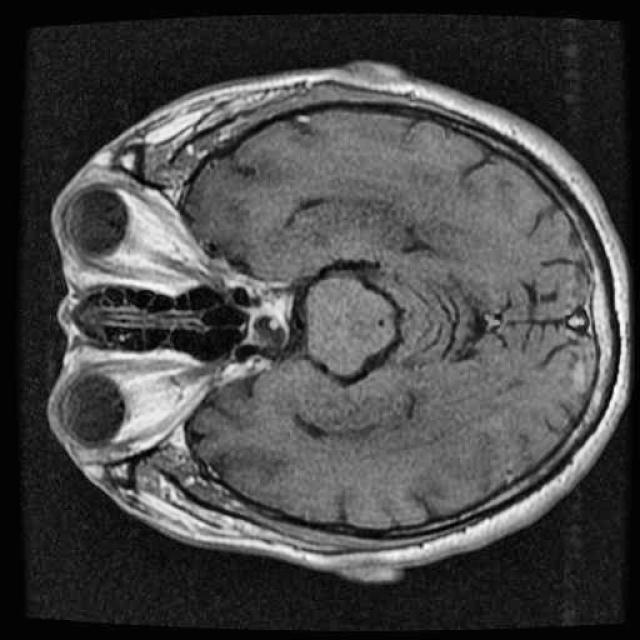Tumor: (236, 288, 305, 361)
